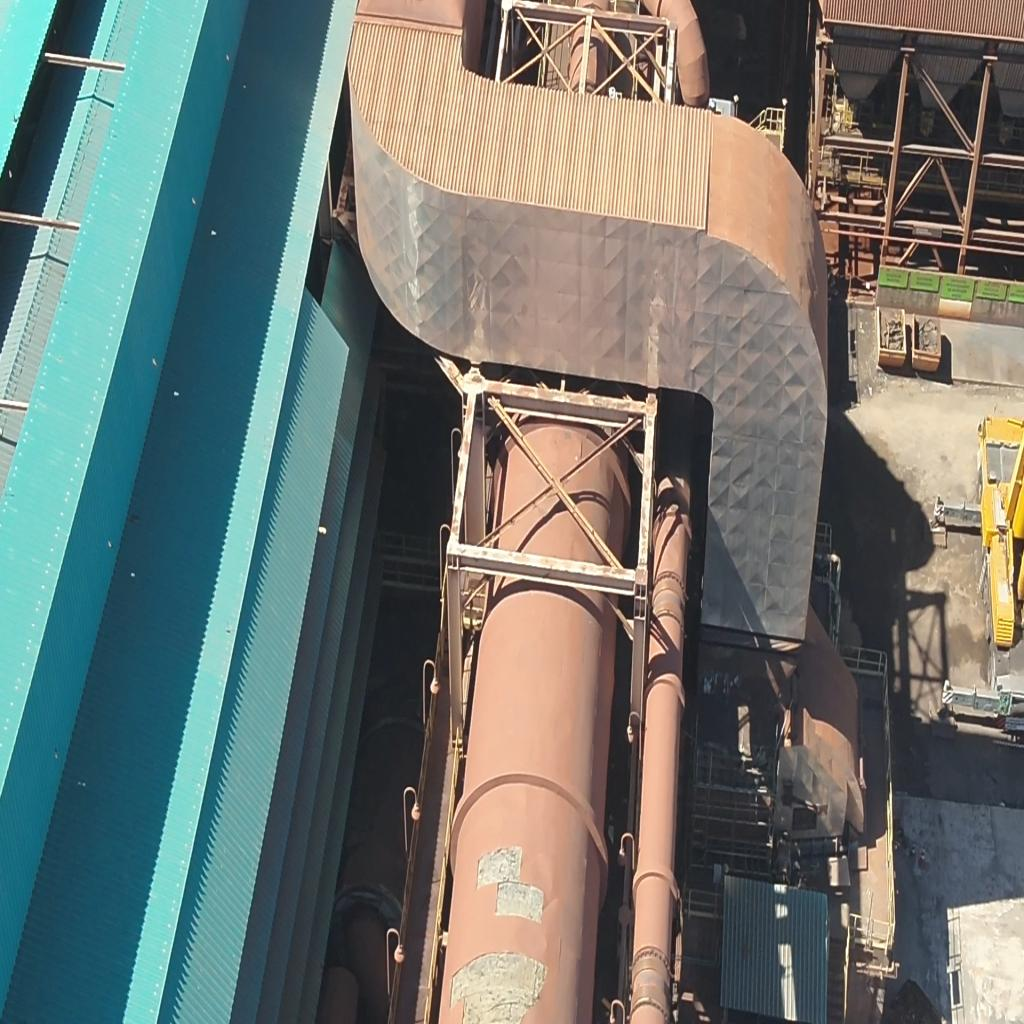Failures: (445, 951, 552, 1024), (475, 842, 545, 928)
